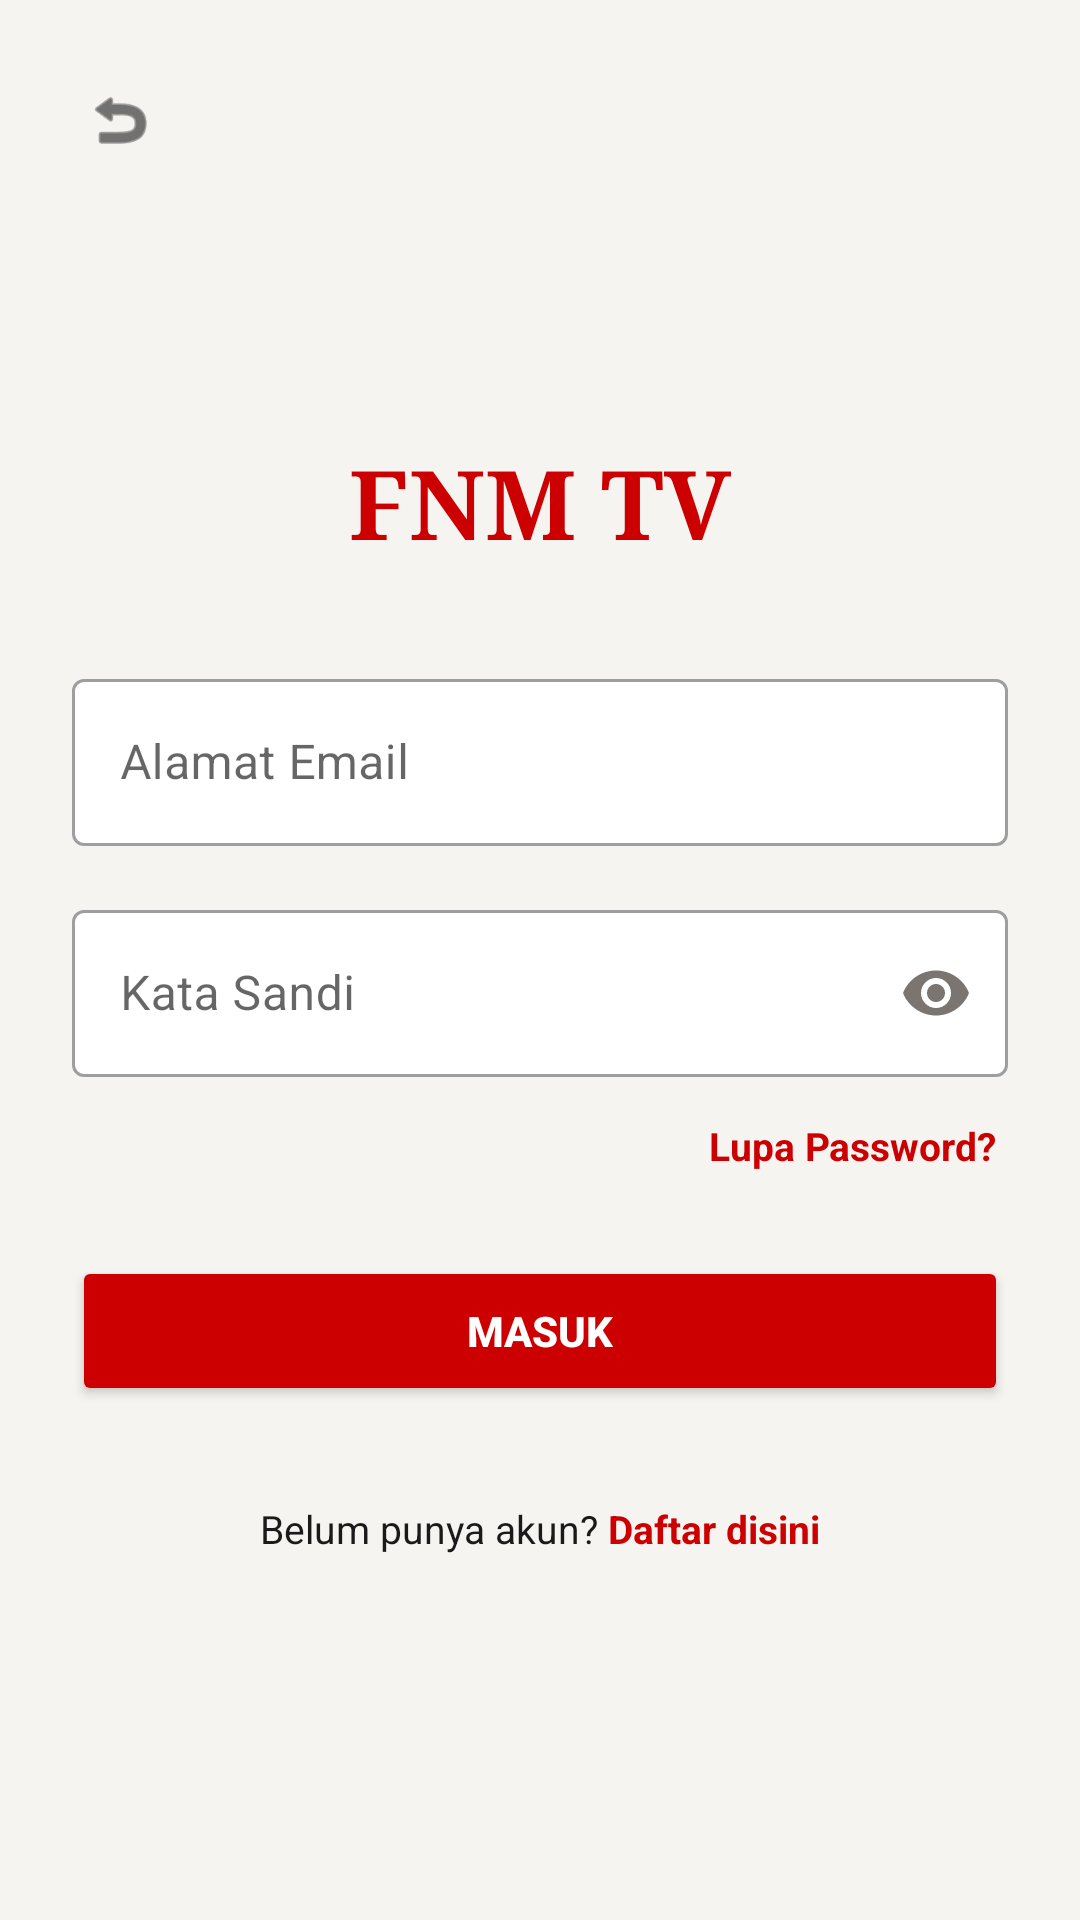

Locate icon controls on the screen. Image size 1080px×1920px, boxes as (left=x1, top=y1, right=x2, bottom=y2).
revert: (left=95, top=97, right=147, bottom=144)
